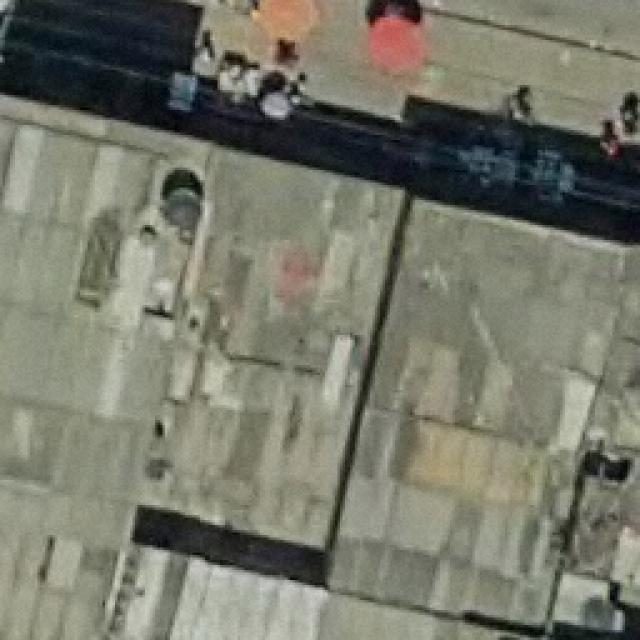vendedor_ambulante: (362, 11, 437, 81), (247, 0, 327, 42)
